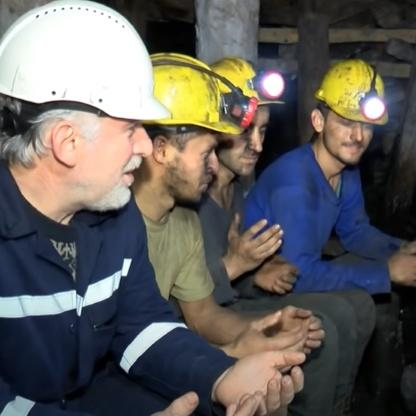helmet: (0, 0, 152, 236), (142, 44, 228, 222), (301, 51, 392, 170), (214, 54, 280, 178)
